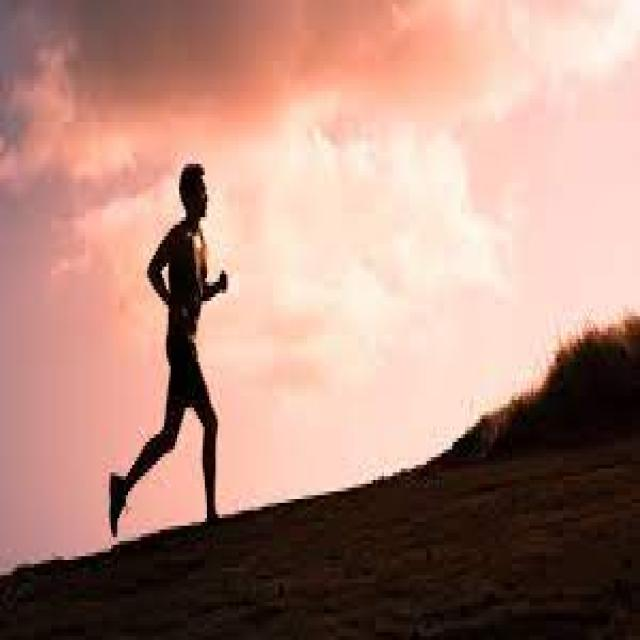Person: (108, 162, 228, 540)
